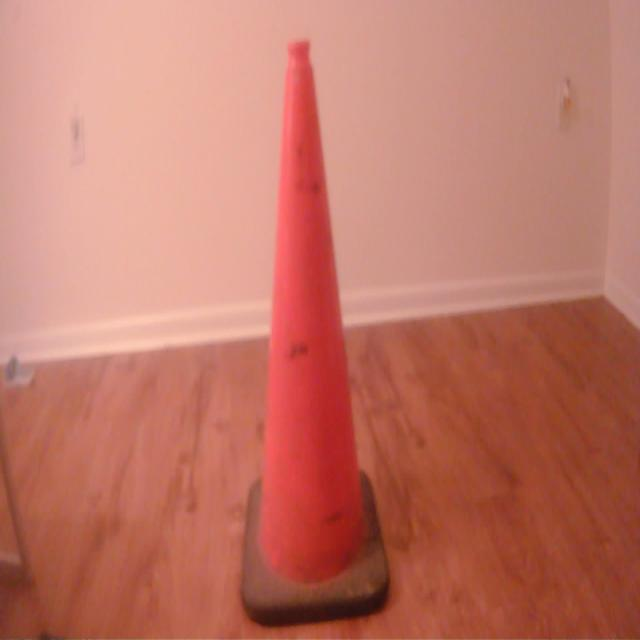traffic cone: (233, 29, 402, 636)
